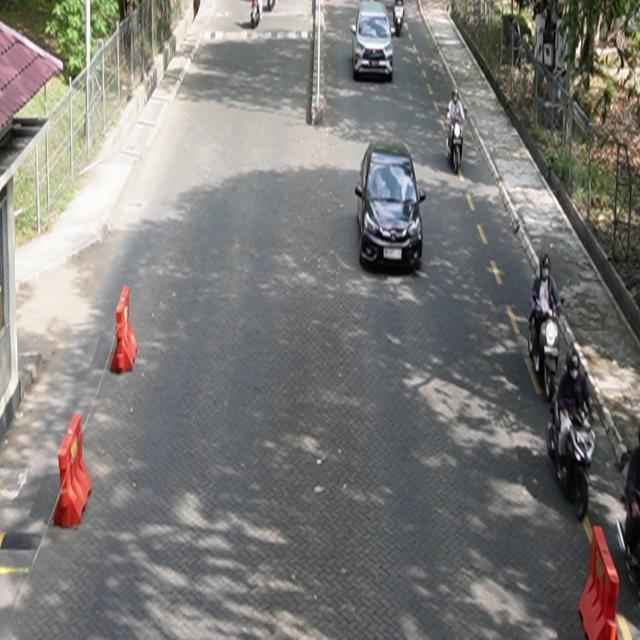car: (356, 139, 427, 273), (351, 1, 395, 83)
